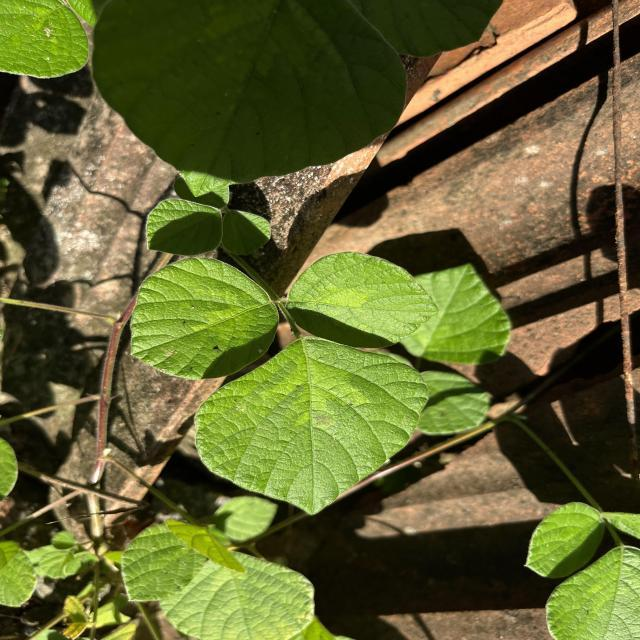Pseudarthria viscida: (127, 247, 443, 518)
